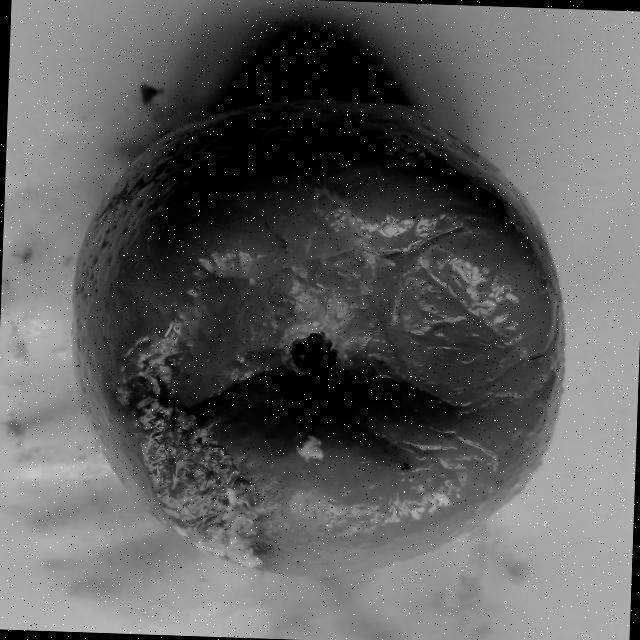Rotten: (61, 88, 574, 589)
